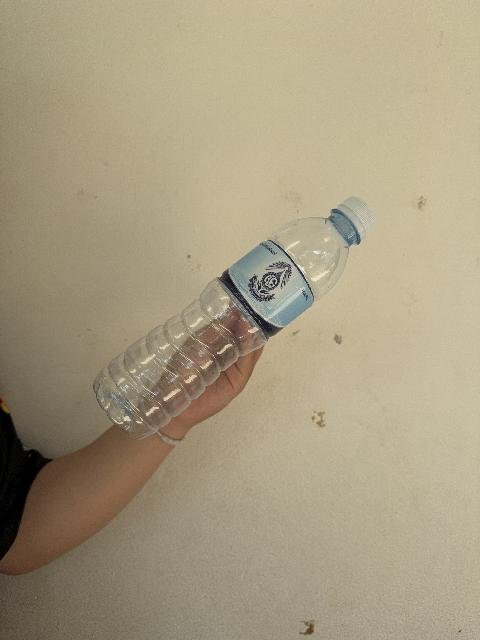bottle: (93, 197, 375, 438)
